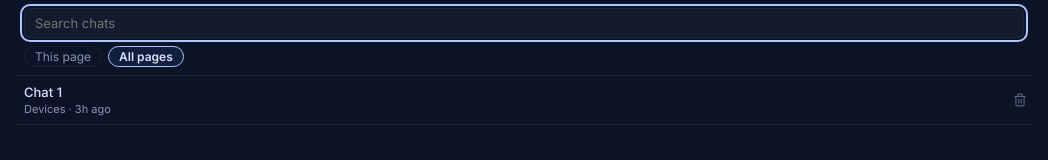
Test case: AiChatHistory search and scope › keeps the answer to the newest search when an older one finishes last
This screenshot has width=1048, height=160.
Expected: the button with test id "ai-chat-history-item-1" is shown, [12, 76, 1004, 124]
Type "a" into the search field with test id "ai-chat-history-search". click: x=524, y=23
box: [24, 8, 1024, 38]
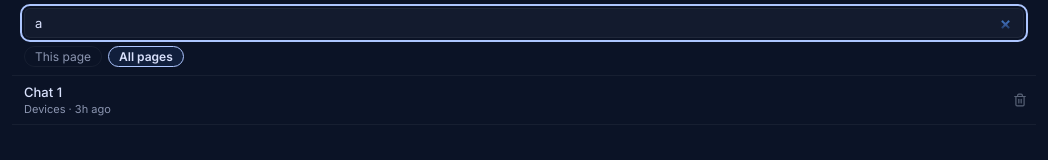
Replace the text in the search field with test id "ai-chat-history-search" with "ab". click: x=524, y=23
box: [24, 8, 1024, 38]
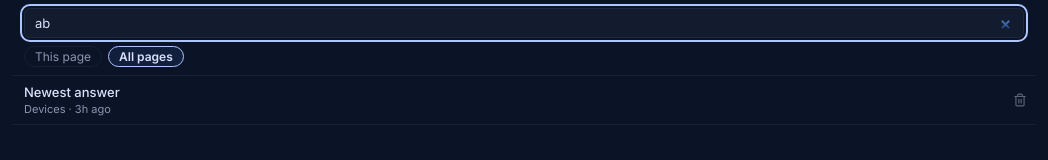
Expected: the button with test id "ai-chat-history-item-22" shows "Newest answer", [12, 76, 1004, 124]
